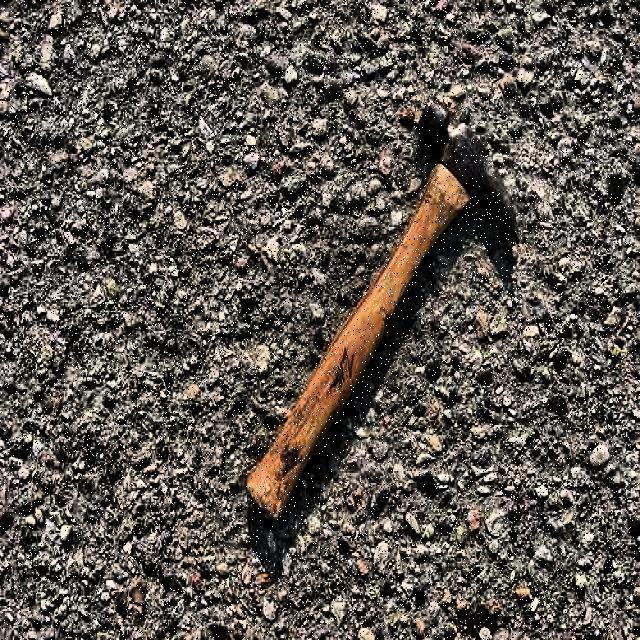hammer: (246, 104, 523, 524)
